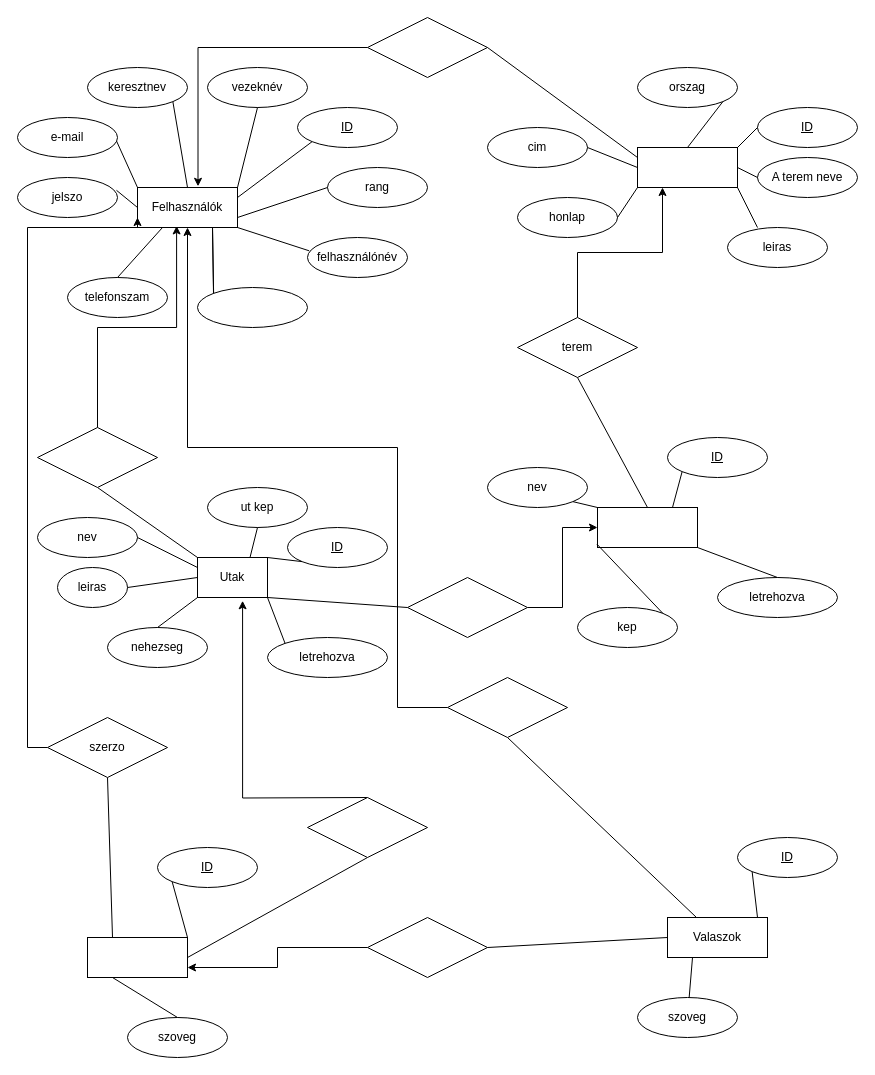
The diagram is 875 pixels wide and 1075 high, and some of its shapes have lost their labels. The shapes that lost their labels are listed below. From the top down, each one's centre as x and y in pixels, then its label:
At pixel 427 47: "hozzado".
At pixel 687 167: "Falmászó helyek".
At pixel 252 307: "szuletesi ido".
At pixel 97 457: "utepito".
At pixel 647 527: "Falak".
At pixel 467 607: "falon".
At pixel 507 707: "valaszolo".
At pixel 367 827: "hozzaszolas".
At pixel 137 957: "Hozzaszolasok".
At pixel 427 947: "valasz".
